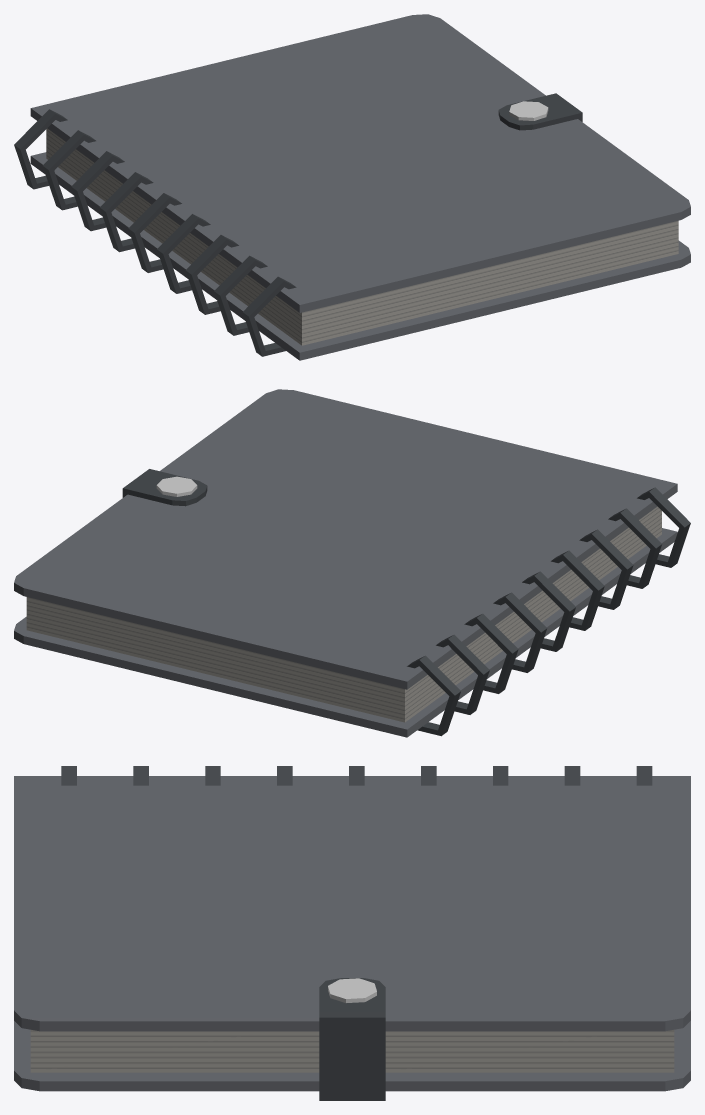
Rendered from Int_OfficeNotebook01_2.fbx.
The picture shows the model from 3 angles, top to bottom: view 1: azimuth 30°, elevation 25°; view 2: azimuth 150°, elevation 25°; view 3: azimuth 270°, elevation 25°; orthographic projection. The views are drawn at different scales.
Visible parts, largest first — view 1: Int_OfficeNotebook01_2; view 2: Int_OfficeNotebook01_2; view 3: Int_OfficeNotebook01_2.
Boxes of the visible parts, box(x1,y1,x2,y2) form: Int_OfficeNotebook01_2: box(14, 14, 690, 360); Int_OfficeNotebook01_2: box(14, 389, 690, 737); Int_OfficeNotebook01_2: box(14, 766, 690, 1100).
Size of what is drawn, in the model's own units: 27.21 by 29.05 by 4.2.
